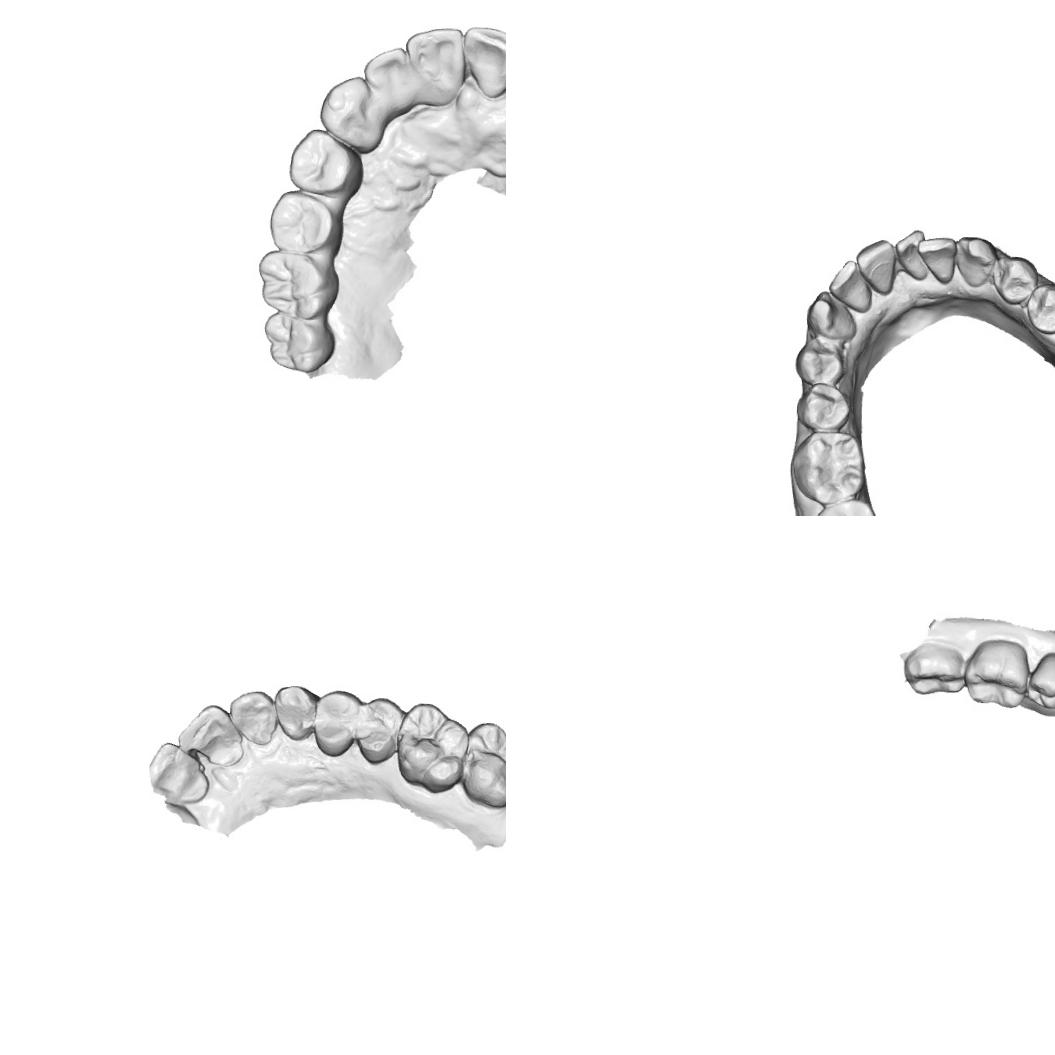canine: (318, 74, 386, 155), (271, 681, 322, 745), (801, 288, 860, 343), (950, 234, 1000, 290)
incisor: (173, 702, 247, 771), (403, 25, 465, 106), (142, 738, 212, 808), (361, 45, 416, 116), (460, 25, 506, 100), (224, 688, 282, 747), (850, 236, 898, 299), (826, 256, 876, 314), (914, 233, 963, 285), (891, 226, 931, 284)
molar: (394, 700, 475, 796), (787, 427, 870, 510), (255, 249, 340, 322), (962, 638, 1032, 711), (261, 309, 337, 375), (457, 719, 506, 811), (902, 640, 967, 698), (808, 495, 886, 516)
premolar: (286, 126, 366, 198), (266, 188, 346, 256), (354, 693, 406, 769), (310, 686, 363, 760), (790, 380, 856, 436), (792, 334, 848, 387), (989, 253, 1041, 308), (1023, 279, 1055, 336), (1025, 651, 1055, 710)
